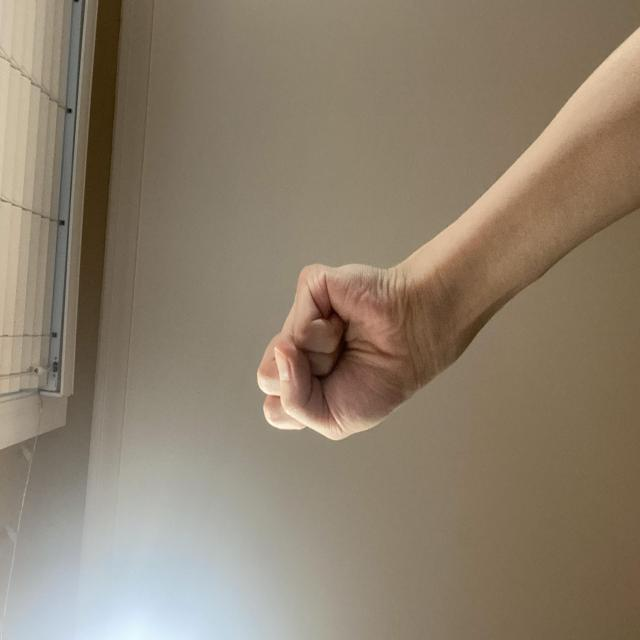S: (146, 337, 289, 574)
